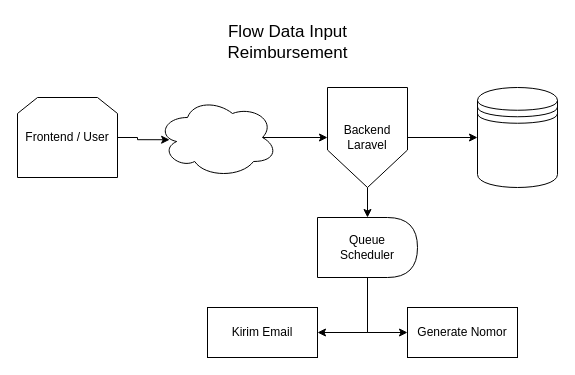
Some shapes in this 575 by 375 pixel diagram are drawn without their labels. The centre of each missing label's shape, as x and y in pixels:
"Database" goes at pixel 517 137.
"INPUT XHR / AJAX" goes at pixel 217 137.
